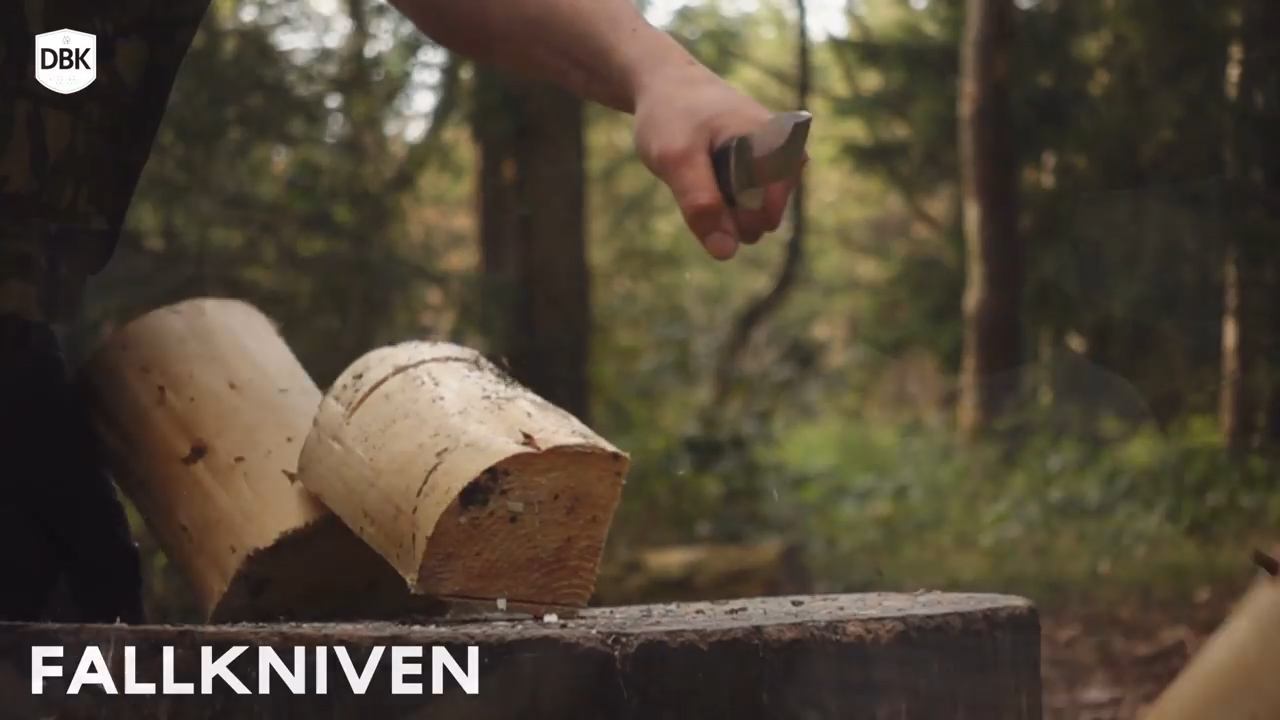knife: (673, 93, 831, 268)
